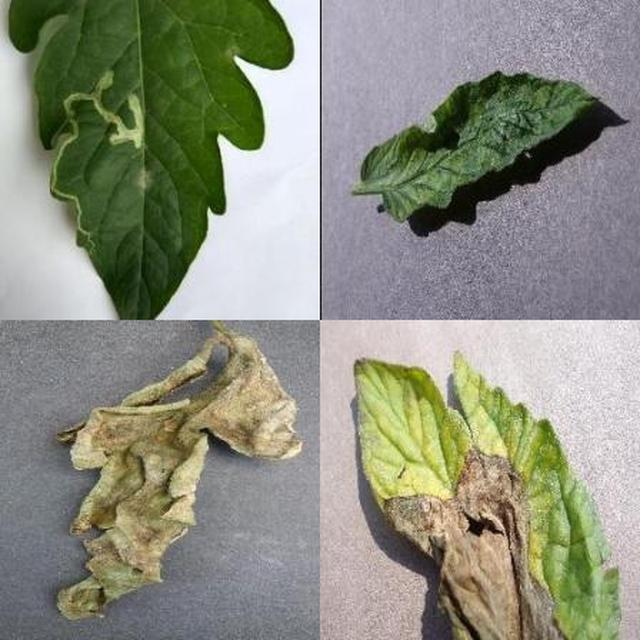Leaf Miner: (218, 209, 640, 640)
